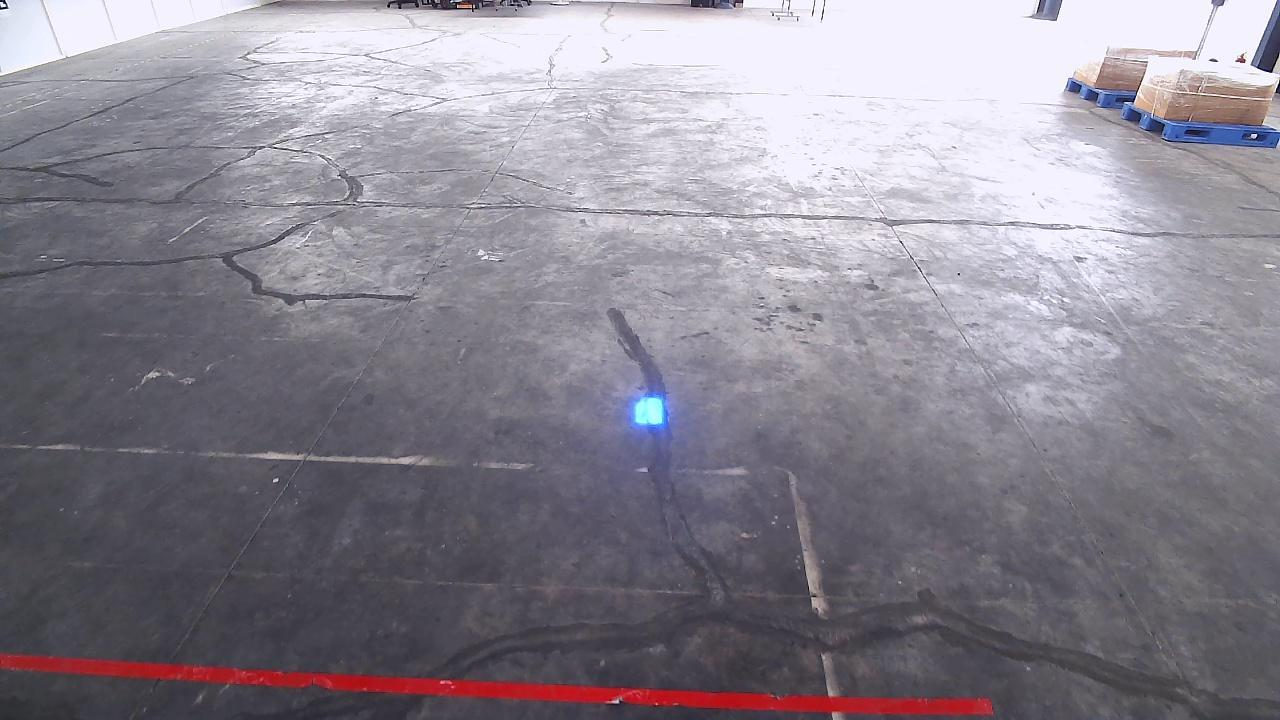red_line: (0, 655, 996, 715)
